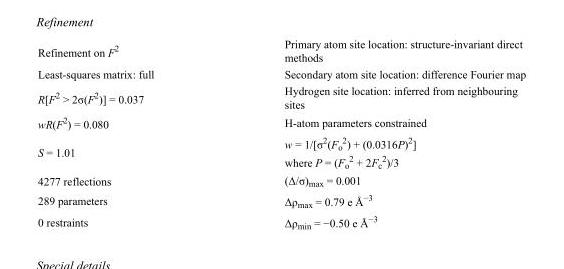table: (37, 37, 525, 230)
table column: (218, 37, 525, 230), (37, 37, 218, 230)
table row: (37, 132, 525, 171), (37, 81, 525, 112), (37, 37, 525, 65), (37, 189, 525, 211), (37, 112, 525, 132), (37, 211, 525, 230), (37, 171, 525, 189), (37, 65, 525, 81)
